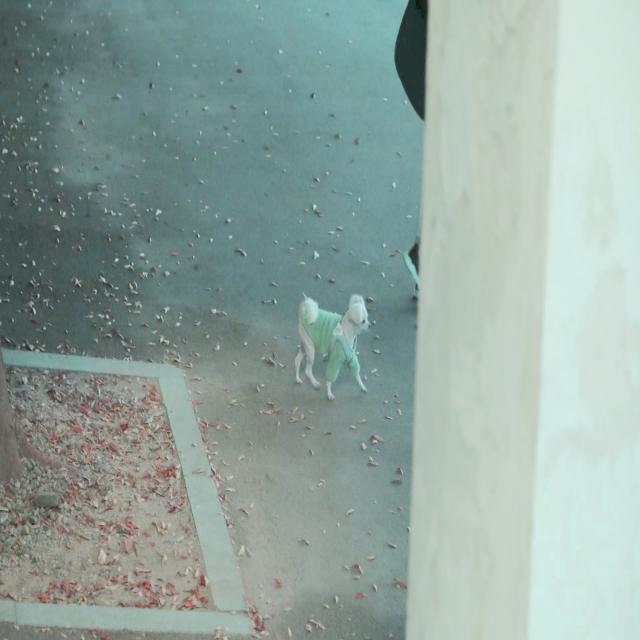Dog: (294, 291, 371, 402)
